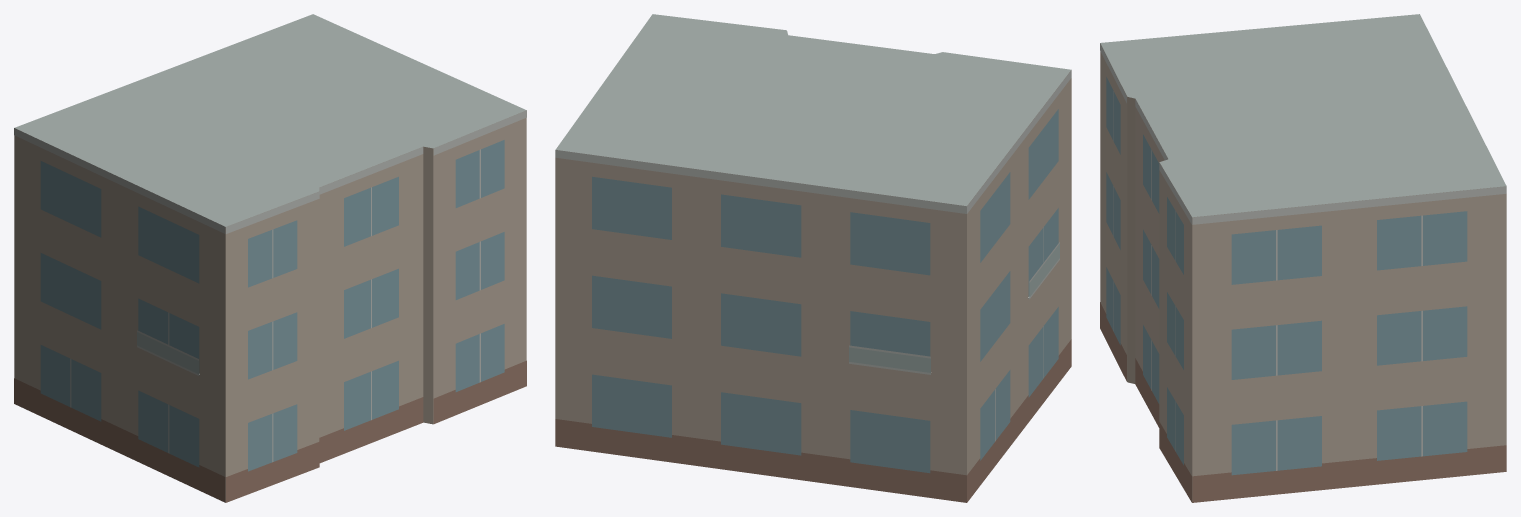
File: survey-upis-32547579.glb
3 views of the same model, side by side, from view 1: azimuth 30°, elevation 25°; view 2: azimuth 150°, elevation 25°; view 3: azimuth 270°, elevation 25° (orthographic). The views are drawn at different scales.
Visible parts, largest first — view 1: survey-upis-32547579.tmp; view 2: survey-upis-32547579.tmp; view 3: survey-upis-32547579.tmp.
Part boxes in pixels (left/top/right/bottom): survey-upis-32547579.tmp: left=14, top=14, right=526, bottom=502; survey-upis-32547579.tmp: left=555, top=14, right=1071, bottom=502; survey-upis-32547579.tmp: left=1100, top=14, right=1506, bottom=502.
Bounding box in the file's own units: 13.98 × 9.15 × 11.81.
